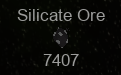Silicate: (18, 8, 106, 67)
